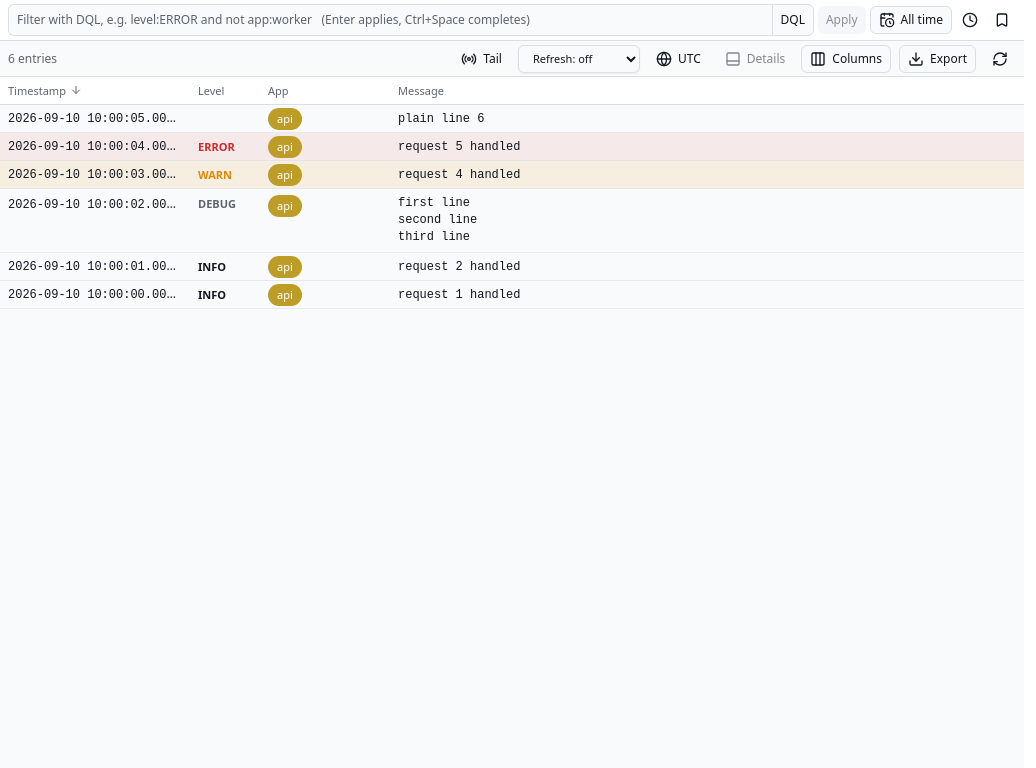
Scenario: row selection and detail panel › shows the flattened JSON table by default, with per-row filter and copy actions
Click the row "2026-09-10 10:00:04.000 Z ERROR api request 5 handled": point(512, 147) [0,133,1024,161]
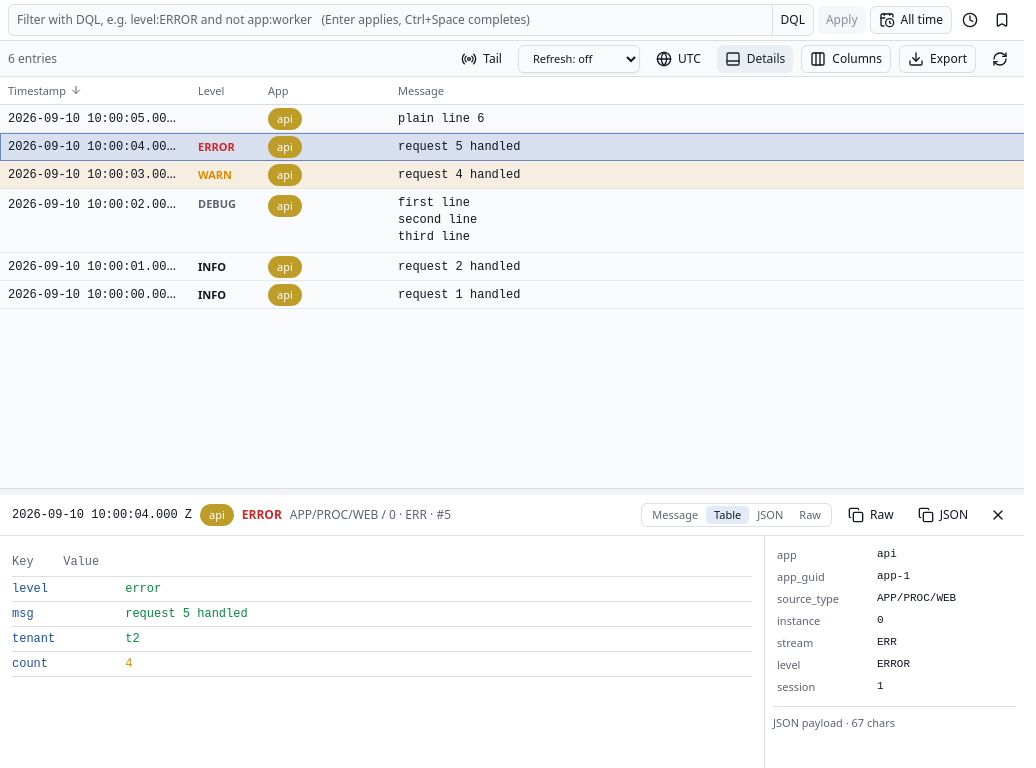
Expected: the table that starts with "Key" shows "tenant", [12,632,55,646]
